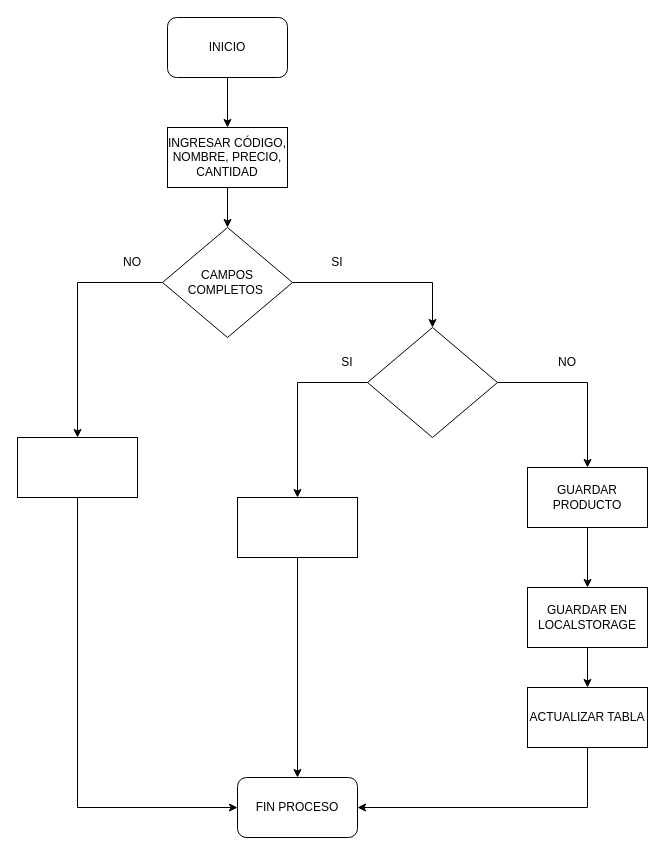
The diagram is 665 pixels wide and 855 high, and some of its shapes have lost their labels. The shapes that lost their labels are listed below. From the top down, each one's centre as x and y in pixels, then its label:
[432,382]: ¿CÓDIGO EXISTENTE?
[77,467]: MOSTRAR ERROR
[297,527]: MOSTRAR MENSAJE DE DUPLICADO
